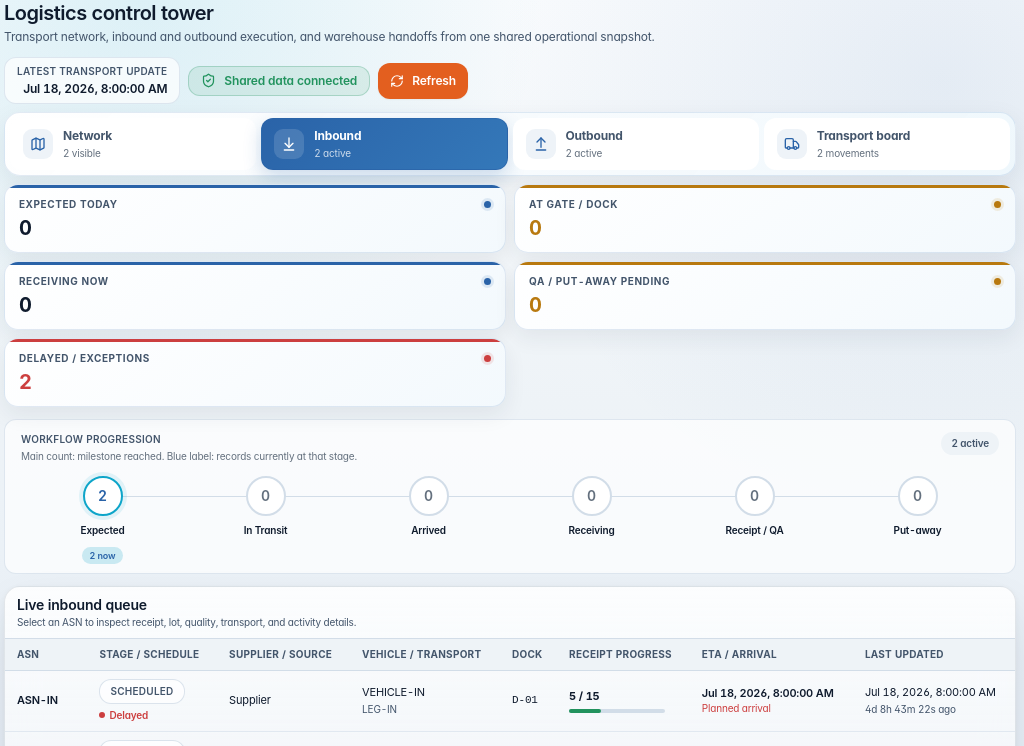
Logistics workspace navigation › renders every active inbound and outbound document with line-level quantity aggregation
Expected: the row named "Open ASN-IN details" is shown, [5,670,1015,731]
Expected: the text "5 / 15" is shown, [569,689,600,703]
Click the button "Outbound 2 active".
click(636, 144)  # box [512,118,759,170]
(page scrolled)
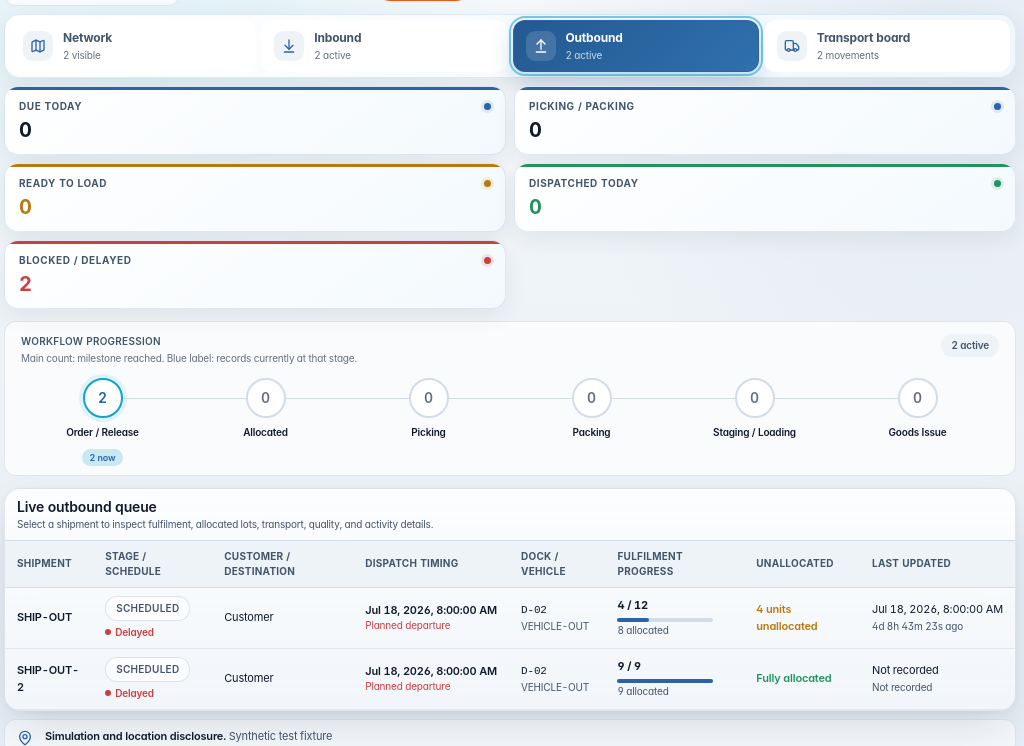
Result: the row named "Open SHIP-OUT details" is shown at [5,587,1015,648]
Result: the row named "Open SHIP-OUT-2 details" is shown at [5,648,1015,709]
Result: the text "4 / 12" is shown at [618,598,648,612]
